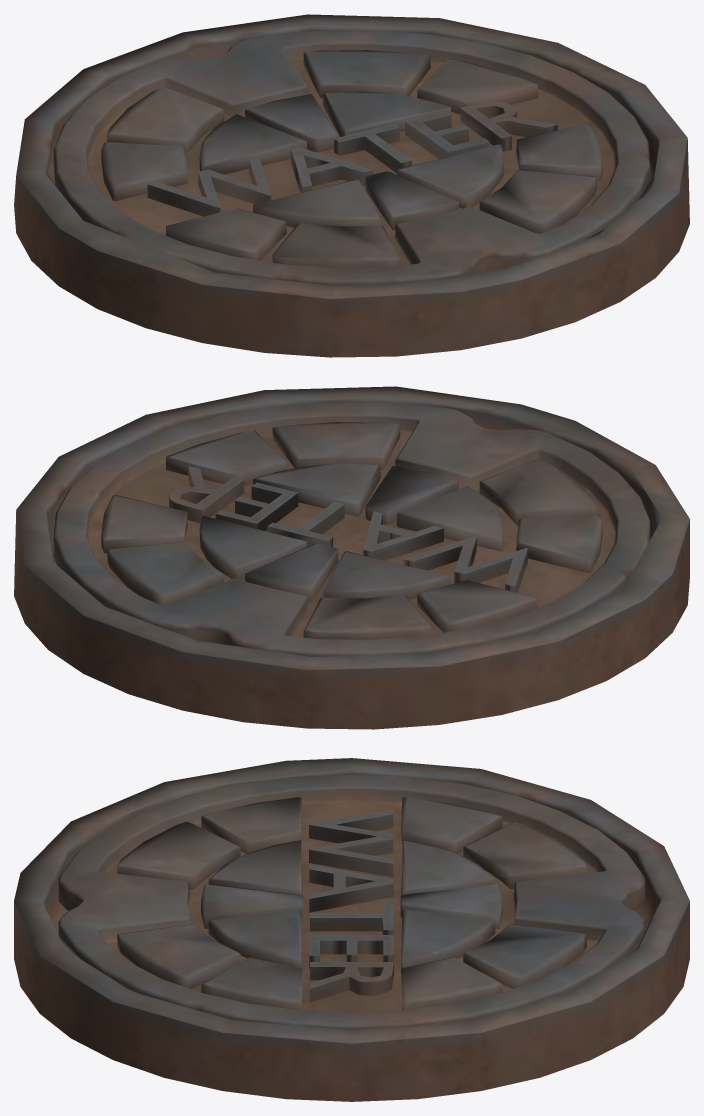
The model's file is water_manhole_cover.glb.
3 renders of one model, top to bottom at view 1: azimuth 30°, elevation 25°; view 2: azimuth 150°, elevation 25°; view 3: azimuth 270°, elevation 25°, orthographic.
Visible parts, largest first — view 1: water_manhole_cover, water_manhole_cover_frame; view 2: water_manhole_cover, water_manhole_cover_frame; view 3: water_manhole_cover, water_manhole_cover_frame.
Boxes of the visible parts, box(x1,y1,x2,y2) form: water_manhole_cover: box(53, 30, 650, 285); water_manhole_cover_frame: box(14, 14, 689, 357); water_manhole_cover: box(53, 402, 650, 656); water_manhole_cover_frame: box(14, 386, 689, 729); water_manhole_cover: box(58, 774, 645, 1030); water_manhole_cover_frame: box(14, 758, 689, 1101).
Bounding box in the file's own units: 0.6908 × 0.0676 × 0.6908.
1 material, 1 textured.
